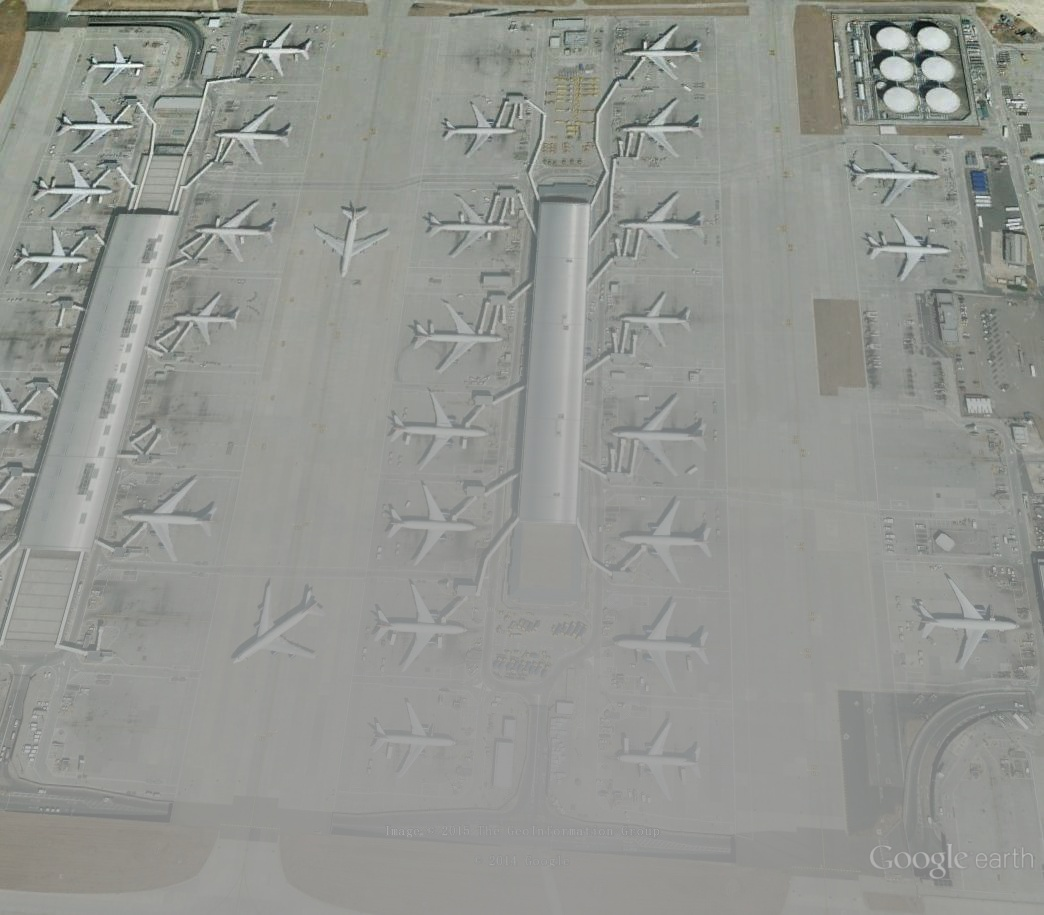aircraft: (913, 573, 1021, 672), (612, 599, 714, 695), (371, 580, 472, 675), (385, 386, 494, 473), (119, 474, 219, 568), (230, 576, 328, 668), (620, 494, 714, 588), (610, 390, 709, 479), (385, 479, 480, 569), (615, 717, 707, 806), (411, 299, 510, 377), (370, 698, 459, 782), (617, 190, 708, 263), (861, 213, 954, 283), (849, 142, 943, 210), (424, 193, 516, 261), (312, 203, 393, 280), (9, 225, 94, 293), (192, 199, 279, 265), (30, 160, 119, 223), (211, 103, 295, 169), (620, 97, 705, 160), (54, 96, 141, 157), (621, 24, 704, 85), (618, 290, 696, 352), (442, 99, 520, 160), (243, 22, 316, 79), (173, 291, 244, 348), (0, 376, 45, 438), (85, 43, 147, 86)
